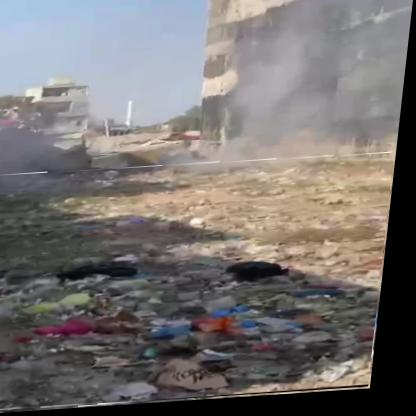Garbage: (1, 156, 401, 416)
